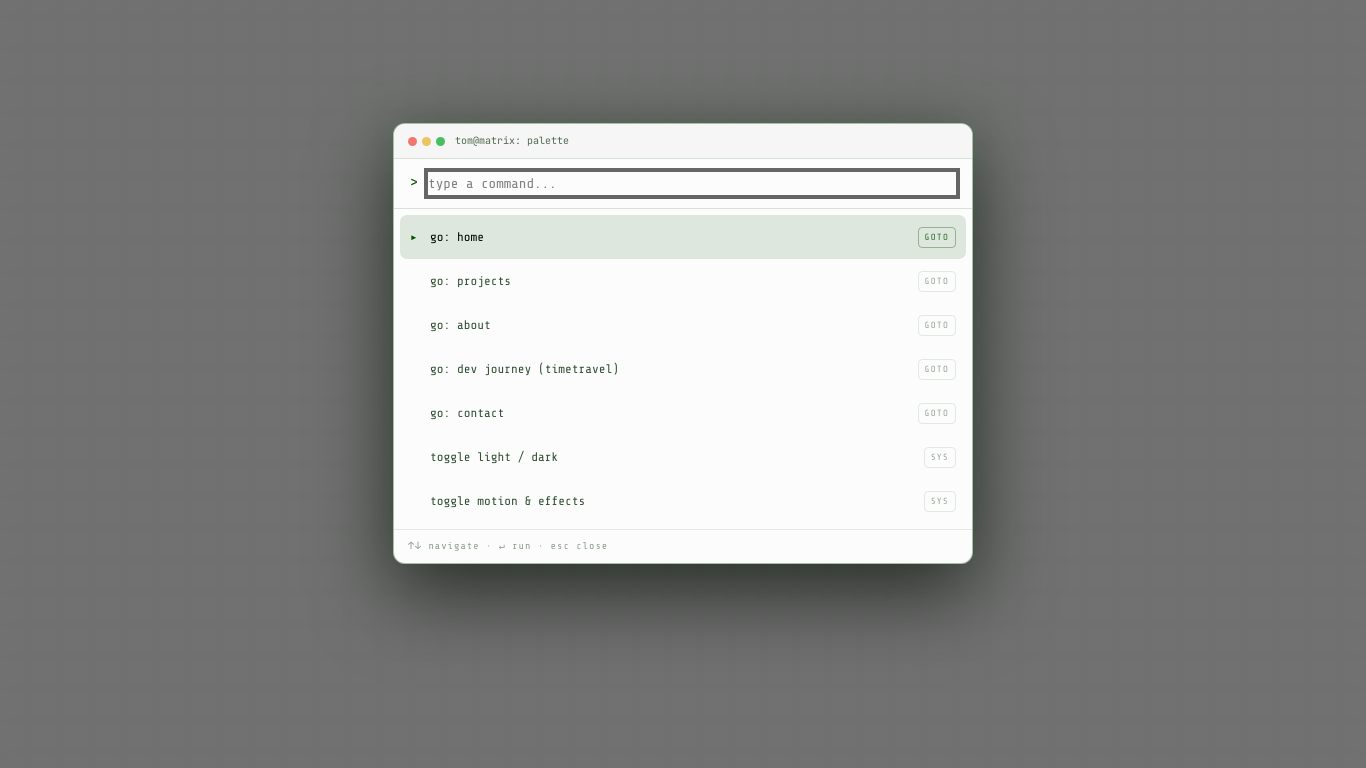
Scenario: CommandPalette › a query that matches nothing shows the empty state
Type "zzzzz" into the dropdown at (692, 184), box [428,172,956,195]
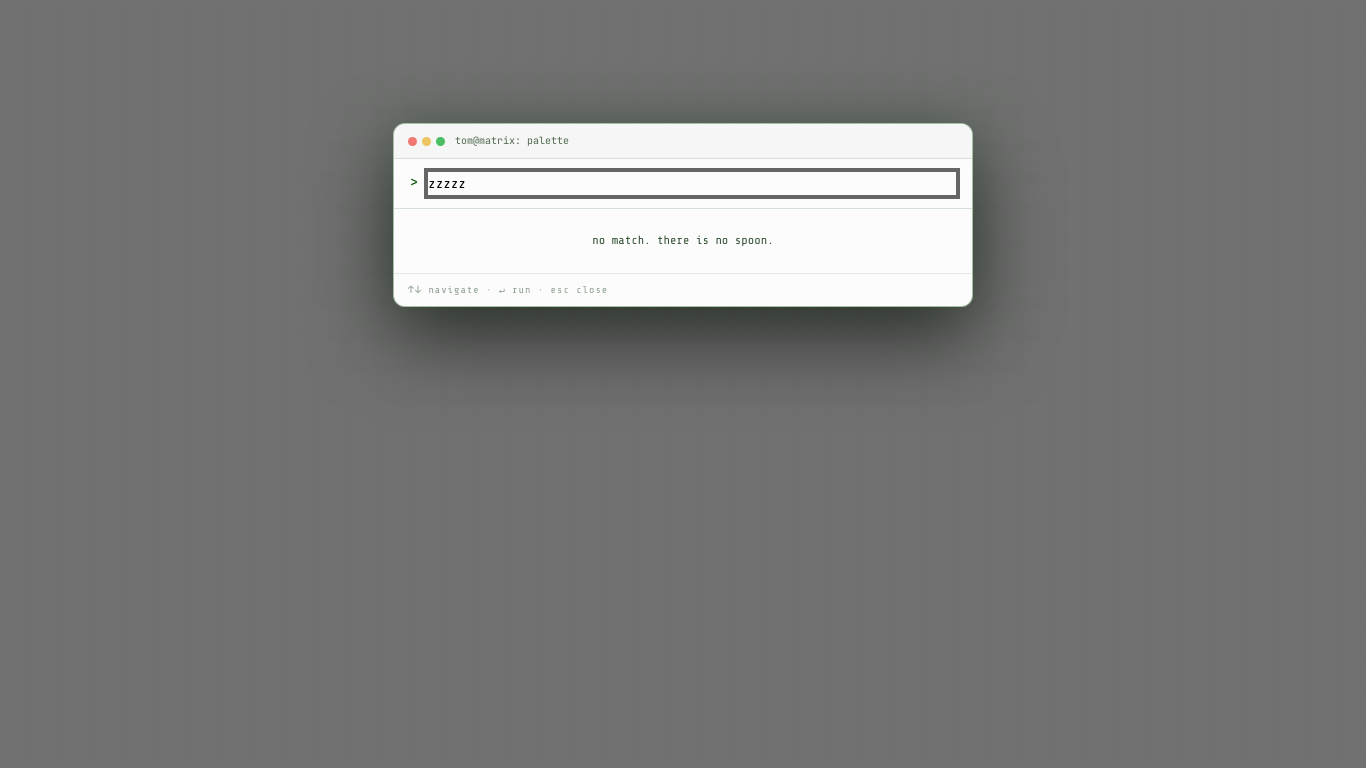
Now the list is gone
Now the text "no match. there is no spoon." is shown, box [592,233,774,247]
